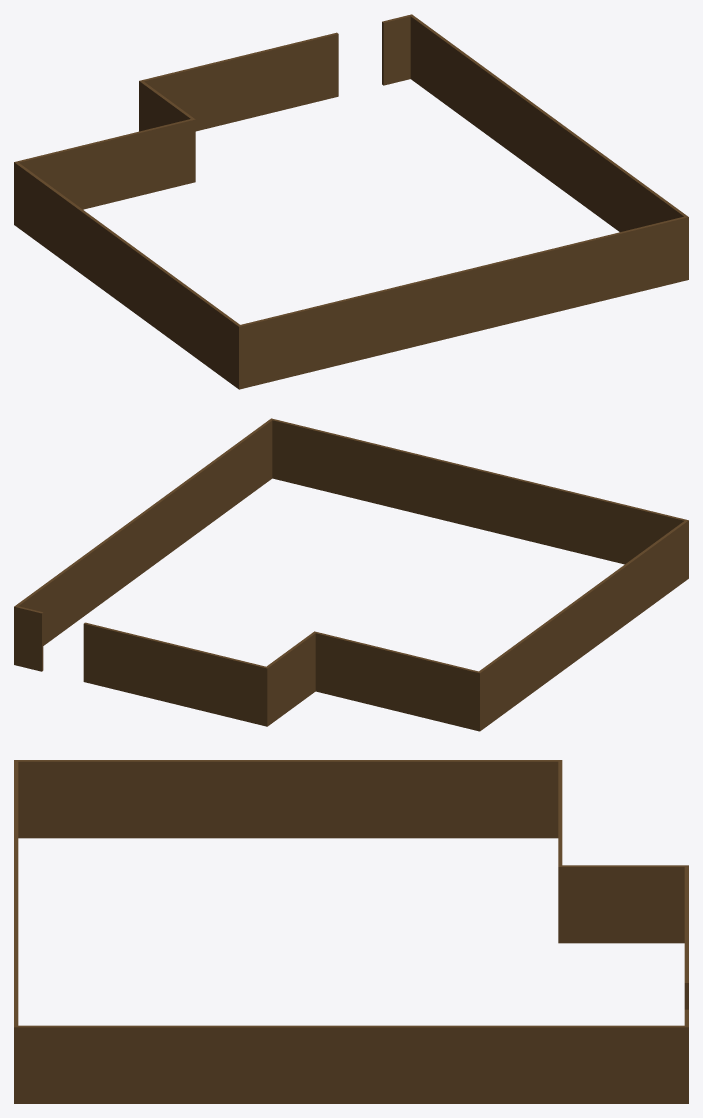
The model's file is GC_garden_walls.fbx.
The picture shows the model from 3 angles, top to bottom: view 1: azimuth 30°, elevation 25°; view 2: azimuth 150°, elevation 25°; view 3: azimuth 270°, elevation 25°; orthographic projection. The views are drawn at different scales.
Parts seen in each view (by area): view 1: gadren_wall.004, gadren_wall.001, gadren_wall.005, gadren_wall, gadren_wall.003, gadren_wall.006, gadren_wall.002; view 2: gadren_wall.004, gadren_wall.001, gadren_wall.005, gadren_wall, gadren_wall.003, gadren_wall.002, gadren_wall.006; view 3: gadren_wall.001, gadren_wall.005, gadren_wall.002, gadren_wall.004, gadren_wall.003, gadren_wall.
Part boxes in pixels (x1=…): gadren_wall.004: x1=241, y1=216, x2=688, y2=388; gadren_wall.001: x1=410, y1=15, x2=686, y2=231; gadren_wall.005: x1=15, y1=162, x2=241, y2=389; gadren_wall: x1=142, y1=32, x2=338, y2=131; gadren_wall.003: x1=14, y1=118, x2=195, y2=225; gadren_wall.006: x1=382, y1=14, x2=413, y2=85; gadren_wall.002: x1=139, y1=80, x2=193, y2=131; gadren_wall.004: x1=270, y1=418, x2=685, y2=564; gadren_wall.001: x1=16, y1=419, x2=272, y2=645; gadren_wall.005: x1=479, y1=519, x2=688, y2=729; gadren_wall: x1=83, y1=622, x2=265, y2=725; gadren_wall.003: x1=313, y1=631, x2=481, y2=731; gadren_wall.002: x1=264, y1=632, x2=315, y2=726; gadren_wall.006: x1=14, y1=605, x2=43, y2=671; gadren_wall.001: x1=18, y1=1025, x2=684, y2=1103; gadren_wall.005: x1=14, y1=760, x2=558, y2=838; gadren_wall.002: x1=562, y1=865, x2=688, y2=943; gadren_wall.004: x1=14, y1=761, x2=18, y2=1103; gadren_wall.003: x1=558, y1=760, x2=562, y2=943; gadren_wall: x1=684, y1=867, x2=688, y2=1009.
Size of the model in its own units: 15 by 16 by 2.
